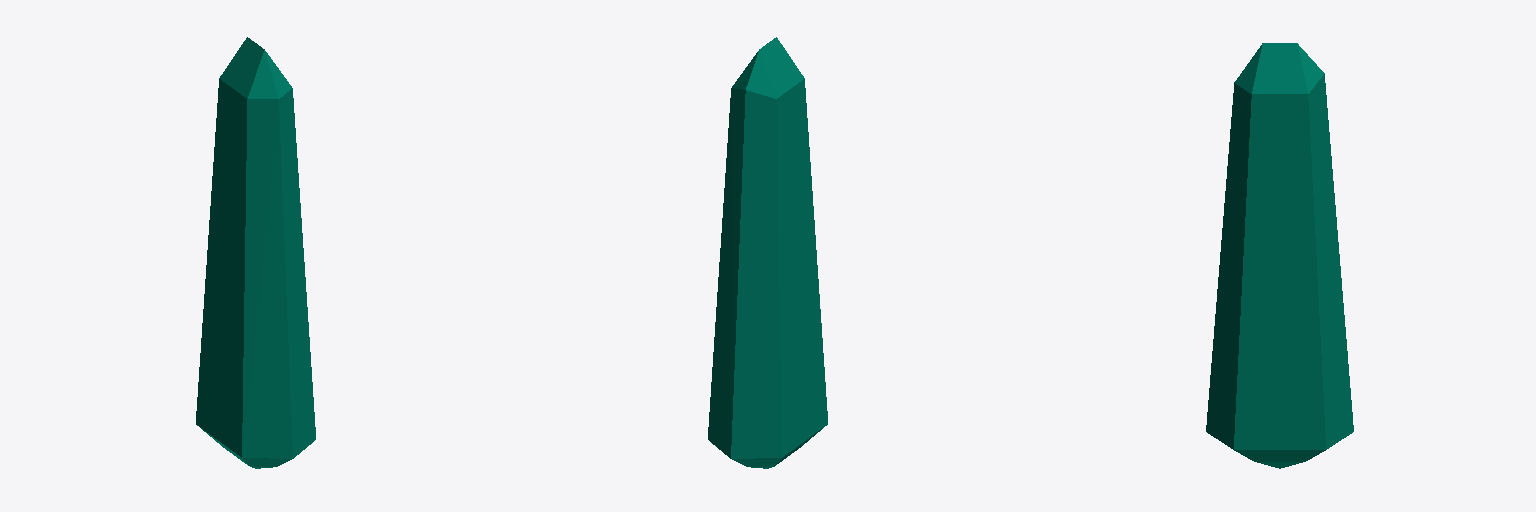
Rendered from Crystal_3.obj.
3 views of the same model, side by side, from view 1: azimuth 30°, elevation 25°; view 2: azimuth 150°, elevation 25°; view 3: azimuth 270°, elevation 25° (orthographic).
Parts seen in each view (by area): view 1: Box054; view 2: Box054; view 3: Box054.
Boxes of the visible parts, x1=… form: Box054: x1=196, y1=37, x2=315, y2=468; Box054: x1=708, y1=37, x2=827, y2=468; Box054: x1=1206, y1=43, x2=1353, y2=468.
Bounding box in the file's own units: 0.2194 × 1.2 × 0.3784.